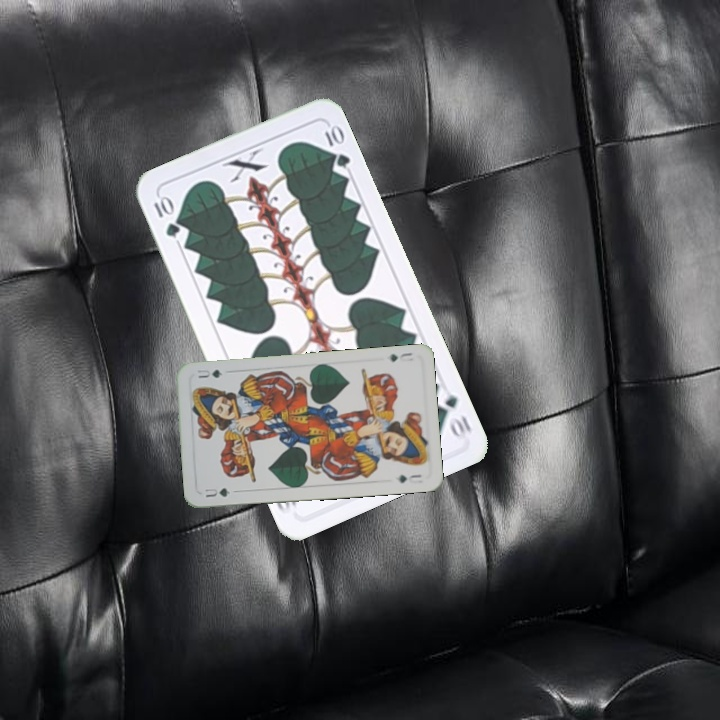G10: (430, 383, 475, 443), (149, 190, 183, 240)
GU: (201, 483, 232, 500), (385, 348, 416, 365)
